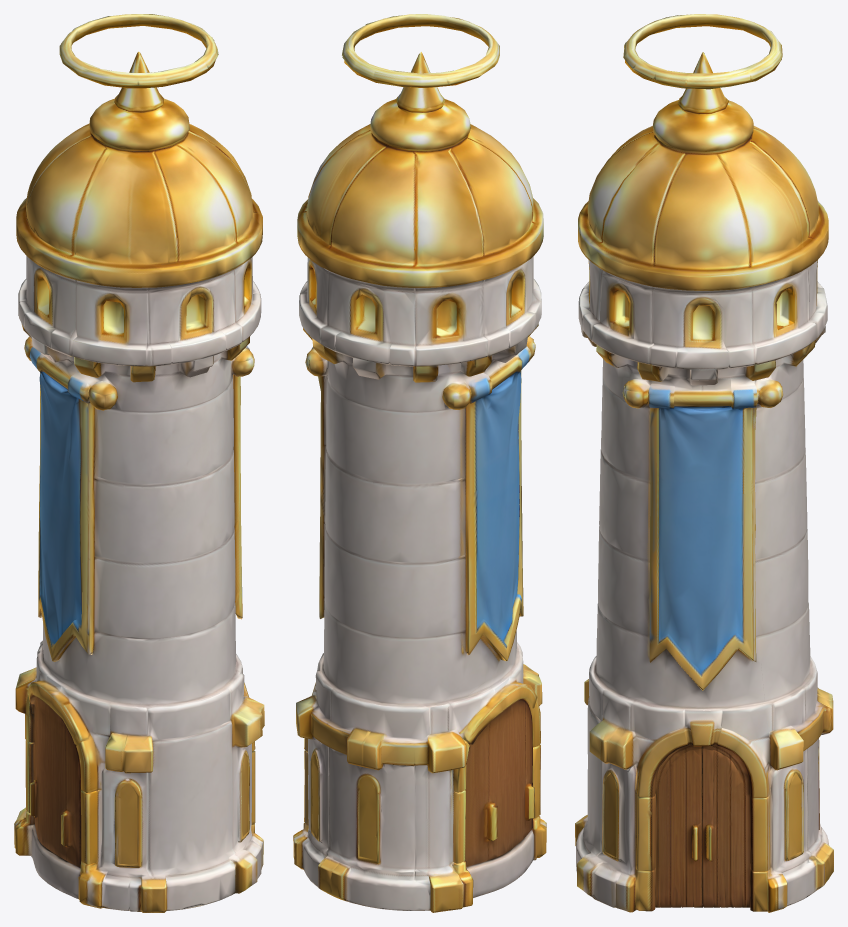
File: Halo_Tower_v2_HD_src.glb
The picture shows the model from 3 angles, left to right: view 1: azimuth 30°, elevation 25°; view 2: azimuth 150°, elevation 25°; view 3: azimuth 270°, elevation 25°; orthographic projection.
Visible parts, largest first — view 1: tripo_node_3f807fba-1e5e-4749-a7a0-5079f5ec18a8; view 2: tripo_node_3f807fba-1e5e-4749-a7a0-5079f5ec18a8; view 3: tripo_node_3f807fba-1e5e-4749-a7a0-5079f5ec18a8.
Boxes of the visible parts, <box> form: tripo_node_3f807fba-1e5e-4749-a7a0-5079f5ec18a8: <box>14,14,264,912</box>; tripo_node_3f807fba-1e5e-4749-a7a0-5079f5ec18a8: <box>293,14,546,912</box>; tripo_node_3f807fba-1e5e-4749-a7a0-5079f5ec18a8: <box>575,14,833,912</box>.
Size of the model in its own units: 0.2673 by 0.9799 by 0.2785.
1 material, 1 textured.
